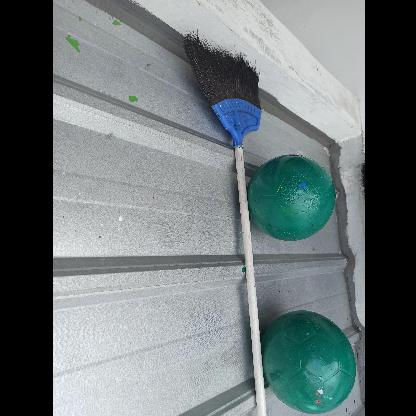green_ball: (254, 314, 358, 415), (250, 156, 336, 242)
